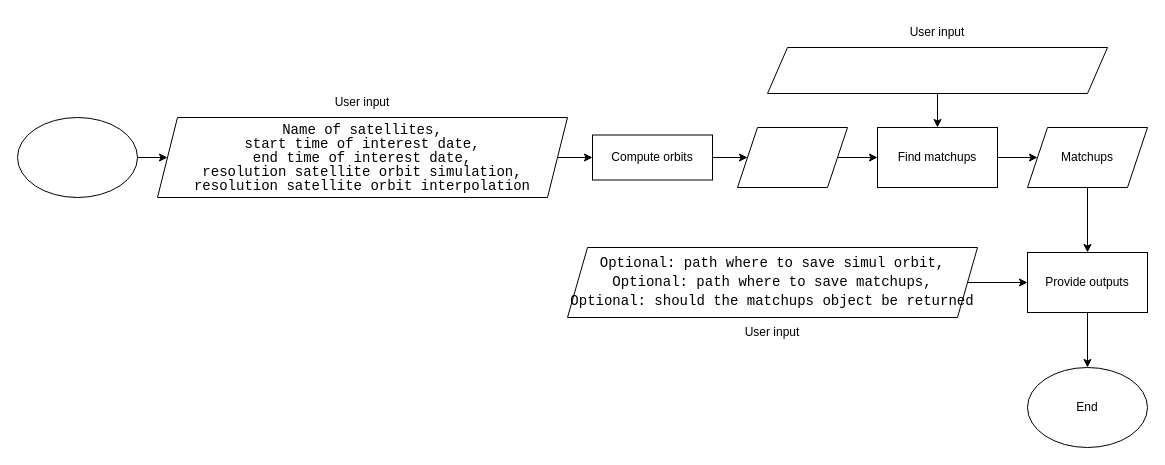
Some shapes in this 1165 by 465 pixel diagram are drawn without their labels. Each missing label, with the centre of its shape:
"max distance between sats for matchup, max time difference for matchup" goes at (x=937, y=70).
"Orbit of each satellite" goes at (x=792, y=157).
"Start" goes at (x=77, y=157).
